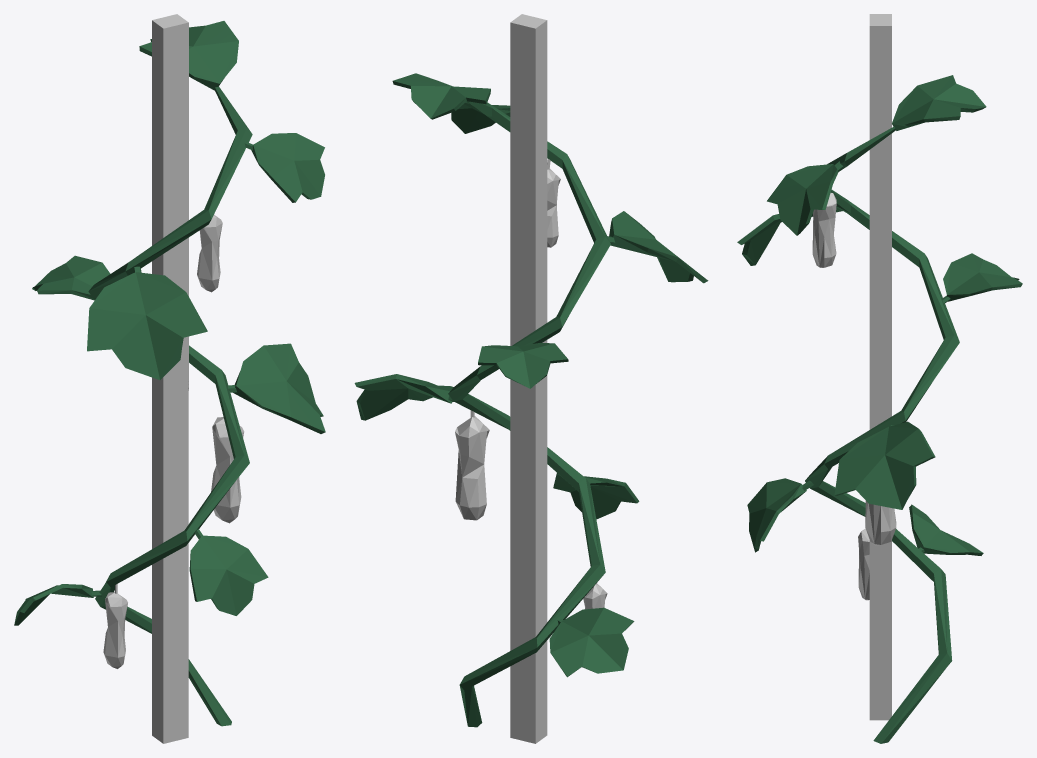
Rendered from mod_vg_cucumberM.fbx.
The picture shows the model from 3 angles, left to right: view 1: azimuth 30°, elevation 25°; view 2: azimuth 150°, elevation 25°; view 3: azimuth 270°, elevation 25°; orthographic projection. The views are drawn at different scales.
Visible parts, largest first — view 1: Tuteur.001; view 2: Tuteur.001; view 3: Tuteur.001.
Boxes of the visible parts, left/top/right/bottom form: Tuteur.001: left=14, top=14, right=325, bottom=743; Tuteur.001: left=354, top=14, right=708, bottom=743; Tuteur.001: left=737, top=14, right=1022, bottom=743.
Bounding box in the file's own units: 52.39 × 124 × 46.34.
